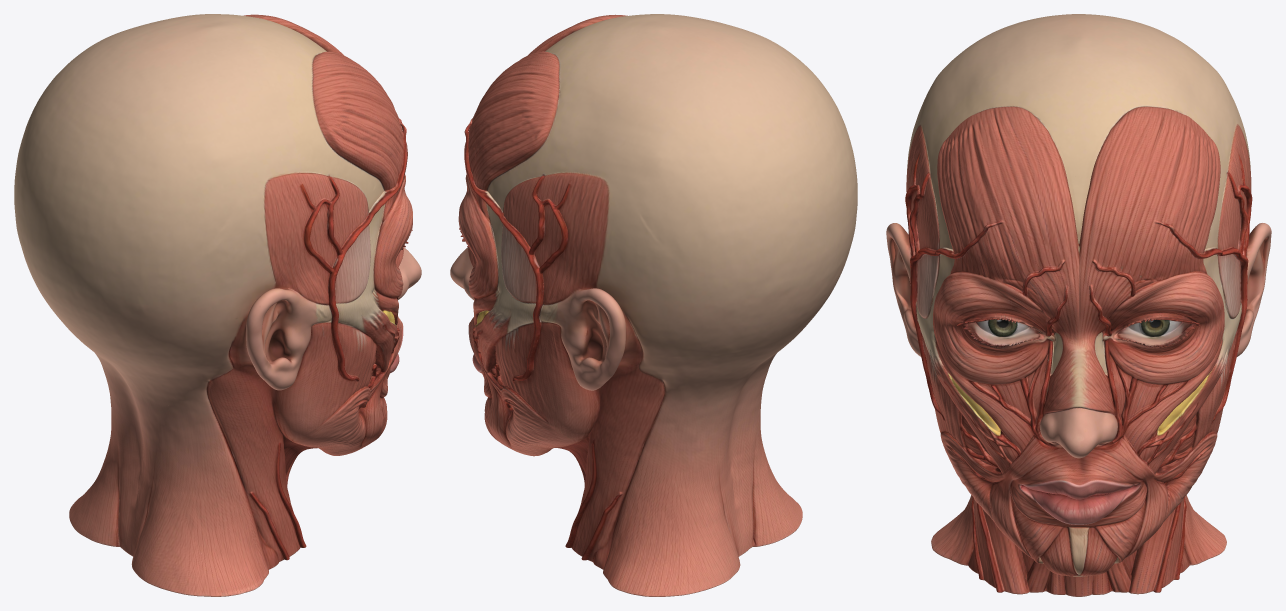
The model's file is head.glb.
3 renders of one model, left to right at view 1: azimuth 30°, elevation 25°; view 2: azimuth 150°, elevation 25°; view 3: azimuth 270°, elevation 25°, orthographic. The views are drawn at different scales.
Visible parts, largest first — view 1: tripo_node_552d4080-b0ce-4493-b10a-3839643482de; view 2: tripo_node_552d4080-b0ce-4493-b10a-3839643482de; view 3: tripo_node_552d4080-b0ce-4493-b10a-3839643482de.
Part boxes in pixels (<box>): tripo_node_552d4080-b0ce-4493-b10a-3839643482de: <box>14,14,421,596</box>; tripo_node_552d4080-b0ce-4493-b10a-3839643482de: <box>450,14,857,596</box>; tripo_node_552d4080-b0ce-4493-b10a-3839643482de: <box>886,14,1271,596</box>.
Bounding box in the file's own units: 0.7894 × 1 × 0.6654.
1 material, 1 textured.
